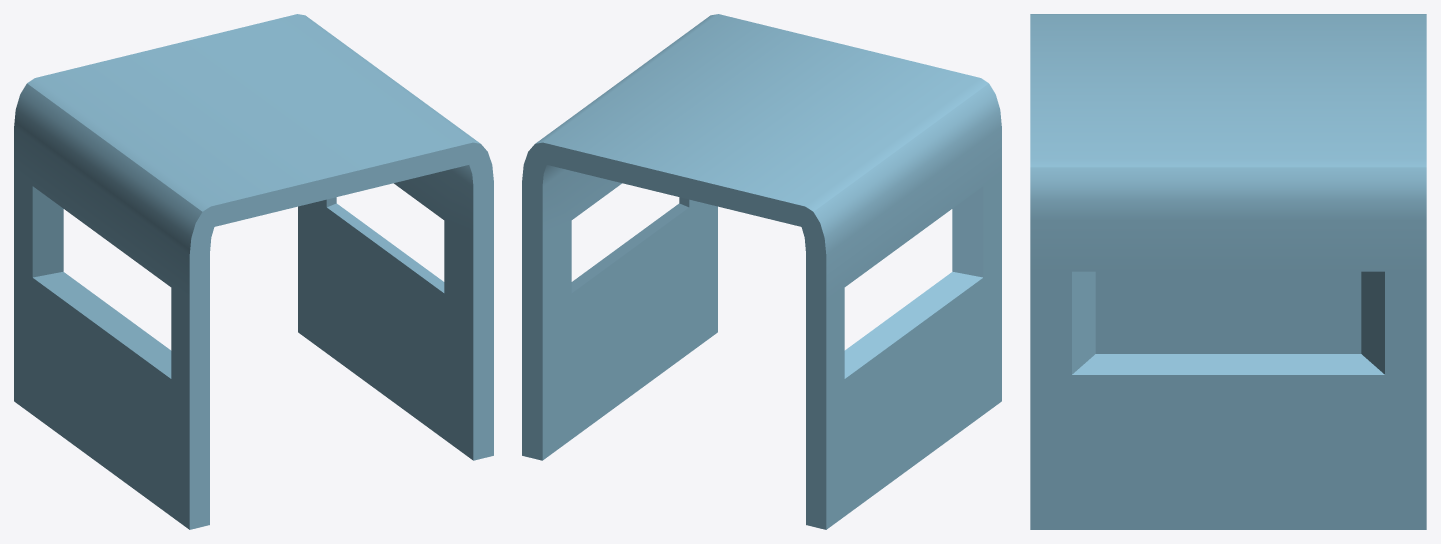
The model's file is Props_Conveyor_Blue_Connector_02.fbx.
3 views of the same model, side by side, from view 1: azimuth 30°, elevation 25°; view 2: azimuth 150°, elevation 25°; view 3: azimuth 270°, elevation 25° (orthographic). The views are drawn at different scales.
Parts seen in each view (by area): view 1: Props_Conveyor_Blue_Connector_02; view 2: Props_Conveyor_Blue_Connector_02; view 3: Props_Conveyor_Blue_Connector_02.
Part boxes in pixels (x1,y1,x2,y2): Props_Conveyor_Blue_Connector_02: [14, 14, 493, 529]; Props_Conveyor_Blue_Connector_02: [522, 14, 1001, 529]; Props_Conveyor_Blue_Connector_02: [1030, 14, 1426, 529].
Size of the model in its own units: 100 by 100 by 100.
